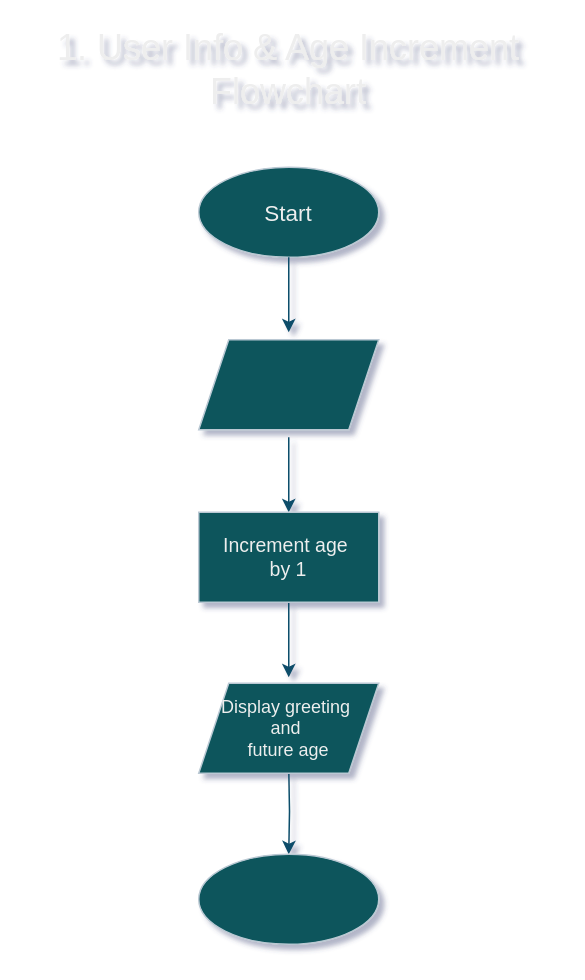
The diagram is 585 pixels wide and 980 high, and some of its shapes have lost their labels. The box of each missing label's shape, as (x1, y1, x2, y2) in pixels:
End: (197, 853, 379, 944)
Enter your Name and Age: :: (197, 338, 379, 430)
